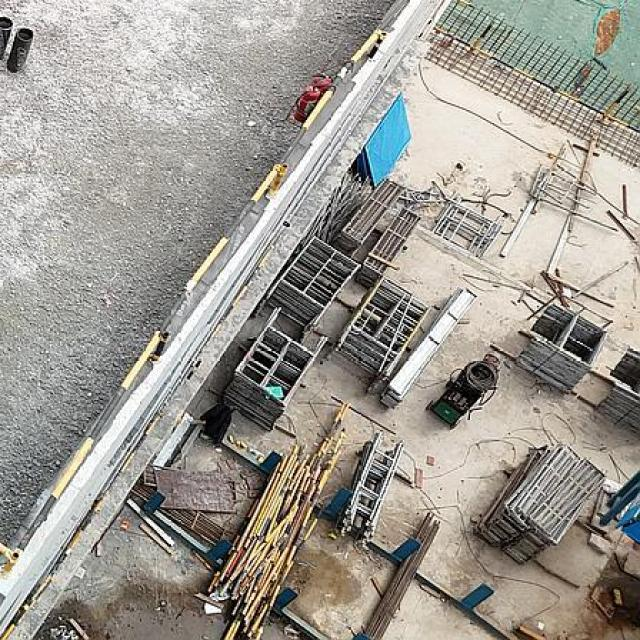Guardrail: (1, 29, 386, 571), (0, 410, 164, 640), (200, 248, 274, 348)
